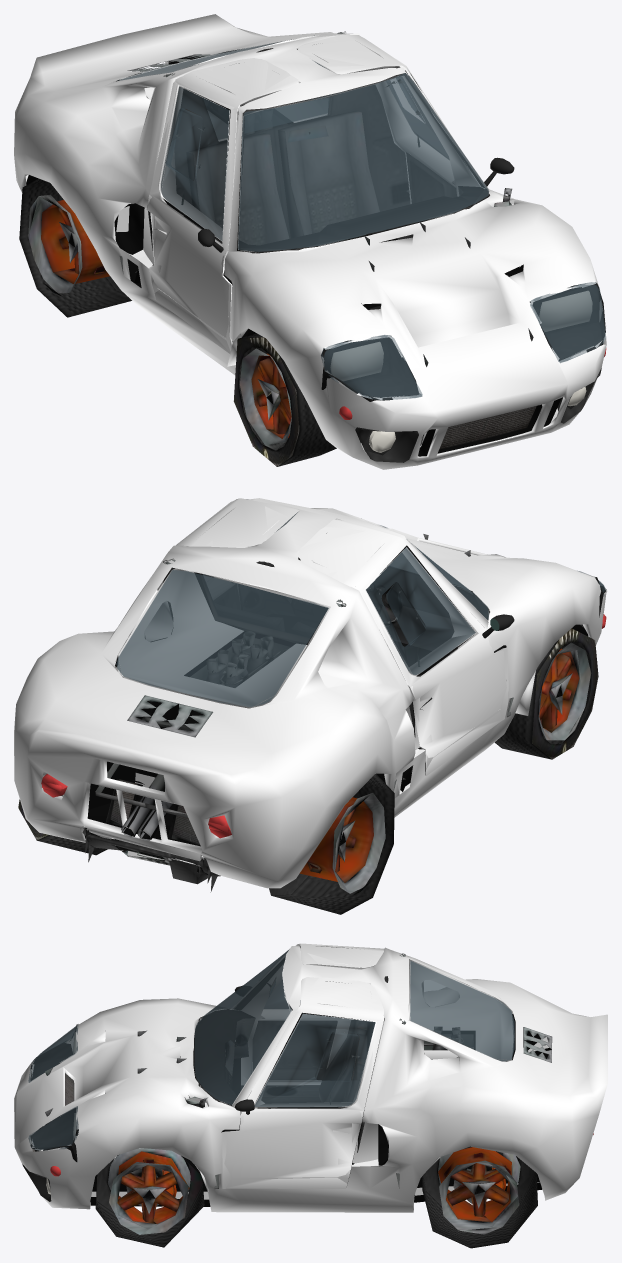
3 renders of one model, top to bottom at view 1: azimuth 30°, elevation 25°; view 2: azimuth 150°, elevation 25°; view 3: azimuth 270°, elevation 25°, orthographic. The views are drawn at different scales.
Visible parts, largest first — view 1: body_paint, body_details, glass, lamps_front; view 2: body_paint, body_details, glass, lamps_rear; view 3: body_paint, body_details, glass.
Boxes of the visible parts, x1,y1,x2,y2 form: body_paint: (14,14,607,469); body_details: (19,31,605,466); glass: (117,35,606,400); lamps_front: (330,291,592,452); body_paint: (14,498,607,888); body_details: (18,534,605,914); glass: (116,499,605,707); lamps_rear: (41,614,606,838); body_paint: (14,943,607,1212); body_details: (22,946,552,1248); glass: (28,949,514,1150).
Size of the model in its own units: 1.8 by 1.46 by 3.58.
Materials: 5 (1 with a texture image).
